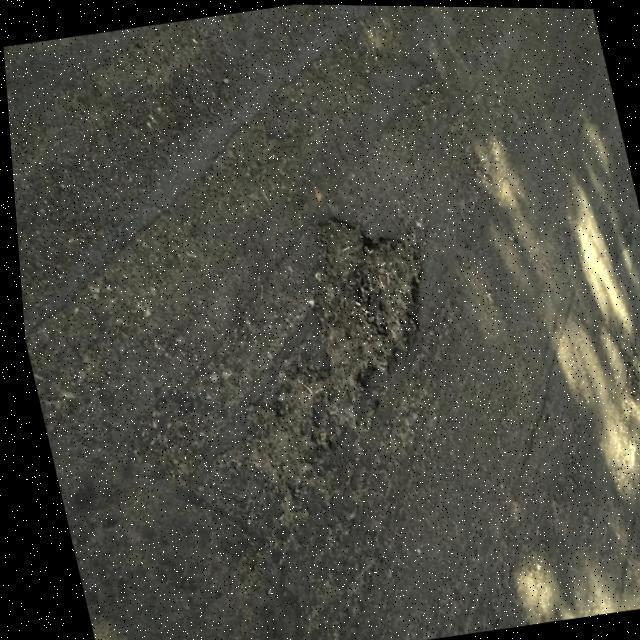pothole: (288, 199, 454, 411)
